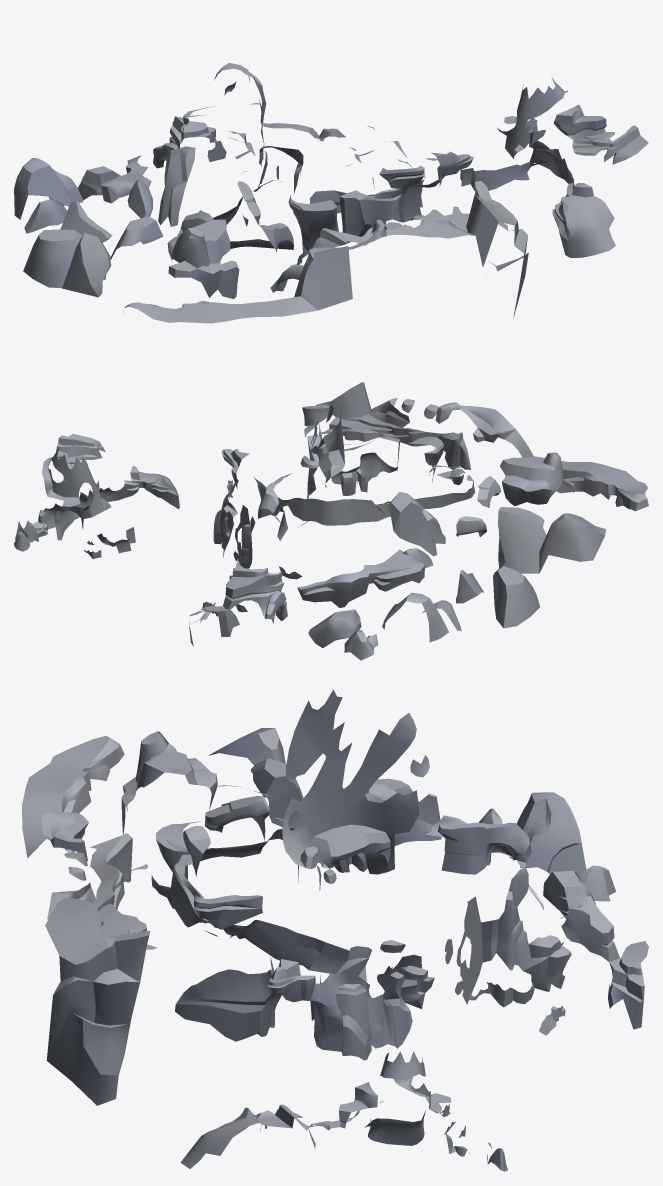
File: MtBlizzardRock.glb
3 renders of one model, top to bottom at view 1: azimuth 30°, elevation 25°; view 2: azimuth 150°, elevation 25°; view 3: azimuth 270°, elevation 25°, orthographic. The views are drawn at different scales.
Parts seen in each view (by area): view 1: MtBlizzardRock; view 2: MtBlizzardRock; view 3: MtBlizzardRock.
Boxes of the visible parts, x1,y1,x2,y2 form: MtBlizzardRock: [14, 63, 648, 323]; MtBlizzardRock: [14, 382, 648, 660]; MtBlizzardRock: [22, 689, 648, 1171].
Bounding box in the file's own units: 186 × 81.89 × 138.
